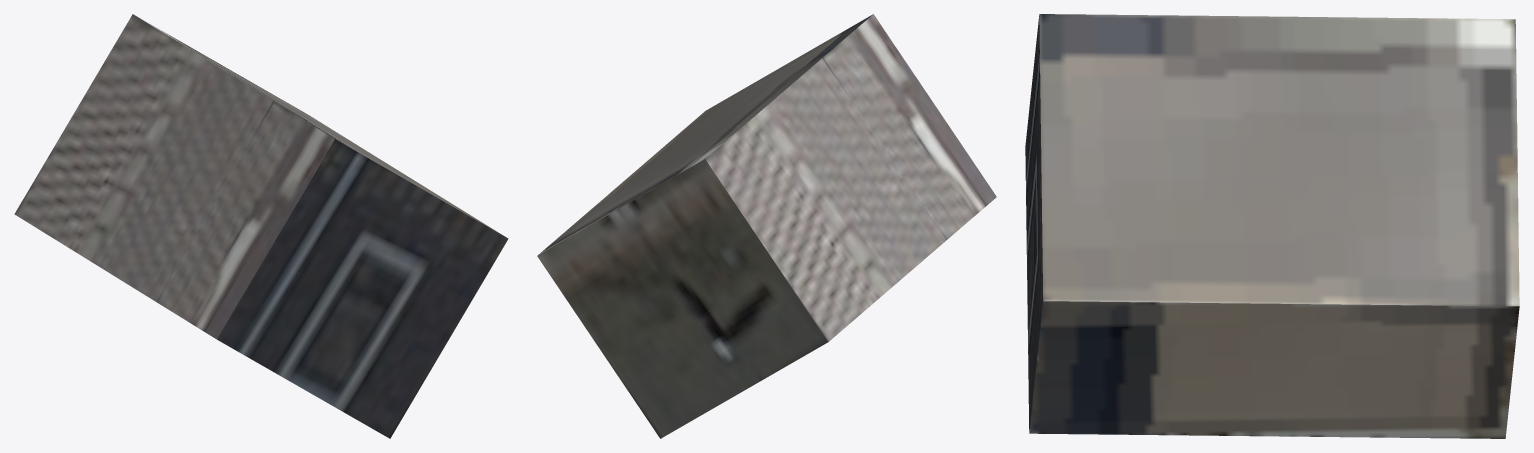
3 renders of one model, left to right at view 1: azimuth 30°, elevation 25°; view 2: azimuth 150°, elevation 25°; view 3: azimuth 270°, elevation 25°, orthographic. The views are drawn at different scales.
Visible parts, largest first — view 1: BAG_0599100100019945 (×2); view 2: BAG_0599100100019945 (×2); view 3: BAG_0599100100019945.
Boxes of the visible parts, <box> form: BAG_0599100100019945 (×2): <box>14,14,508,438</box>; BAG_0599100100019945 (×2): <box>537,14,996,438</box>; BAG_0599100100019945: <box>1025,14,1519,438</box>.
Size of the model in its own units: 2.87 by 2.81 by 3.14.
1 material, 1 textured.
